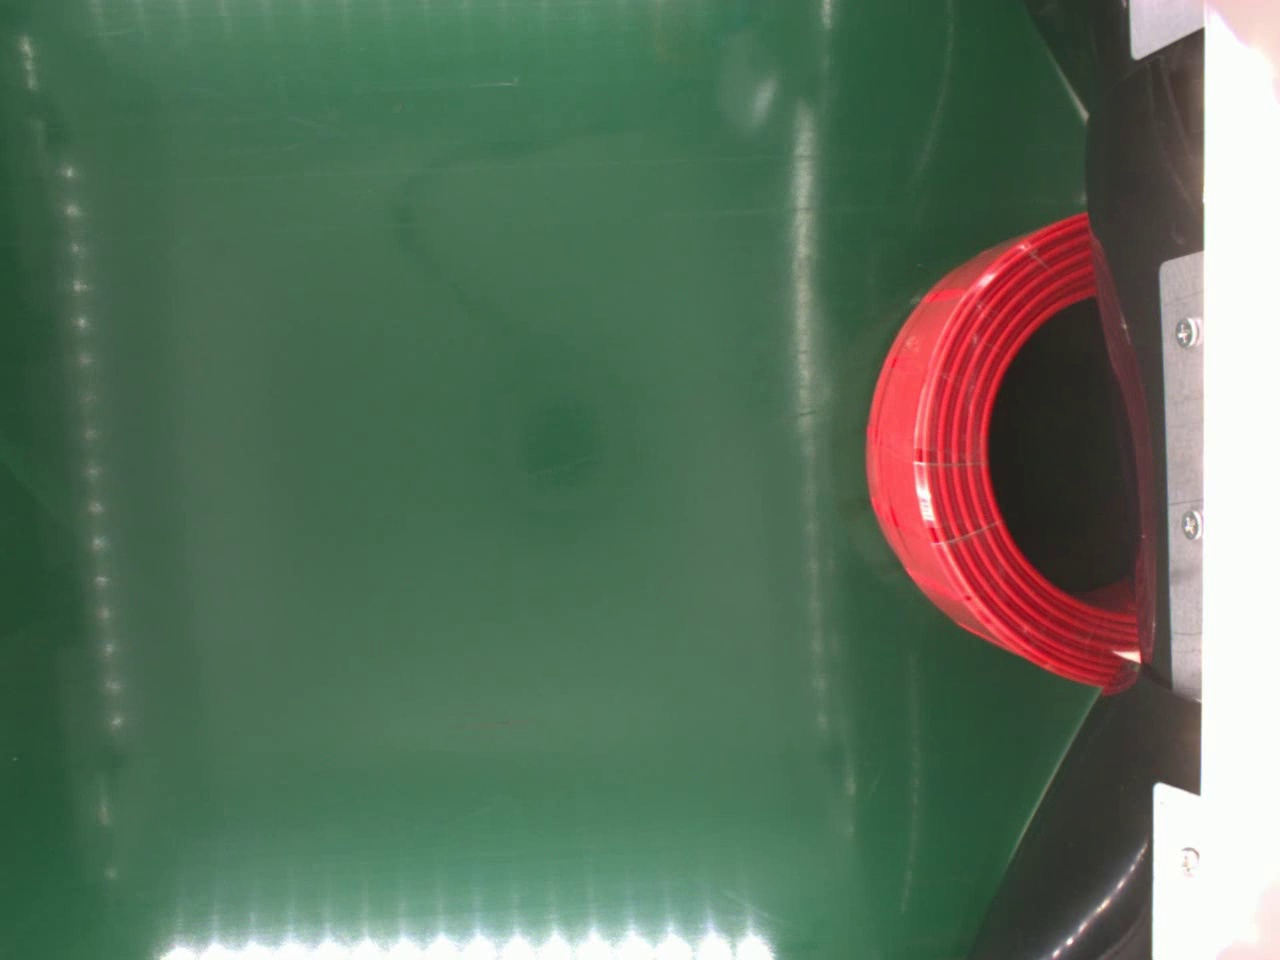red: (860, 216, 1139, 687)
